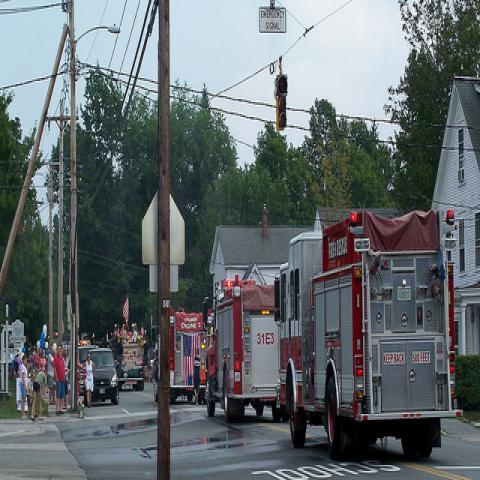car: (90, 346, 119, 406)
truck: (272, 207, 461, 458), (202, 274, 282, 426), (169, 313, 205, 406), (117, 338, 146, 392)
